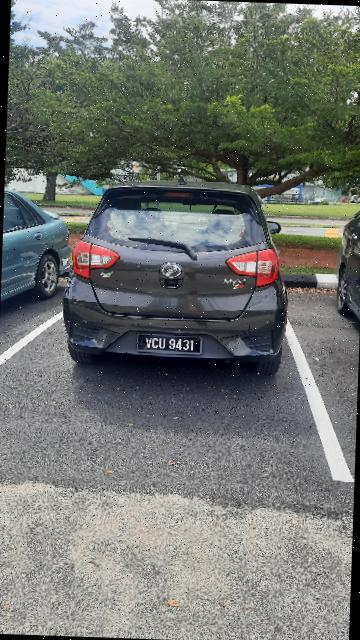License_Plate: (136, 332, 207, 357)
car: (61, 177, 295, 380)
